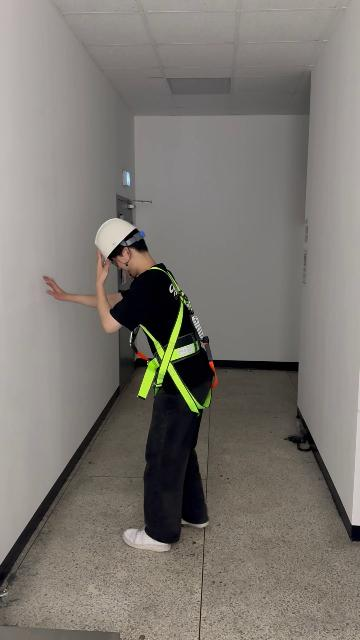helmet_worn: (94, 217, 142, 263)
shoe_not_worn: (122, 526, 171, 551), (182, 515, 209, 528)
vest_worn: (133, 272, 216, 410)
